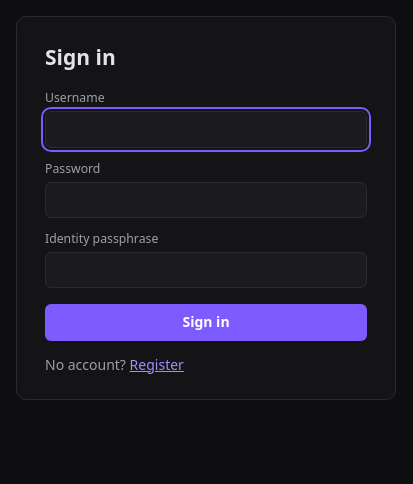
it: test_web_login_form_renders_curated_error_without_leaking_raw_message › shows invalid-credentials copy on 401 without echoing the server detail
Type "alice" into the field labelled "Username".
click(206, 130); type("alice")  # box [45, 111, 367, 148]
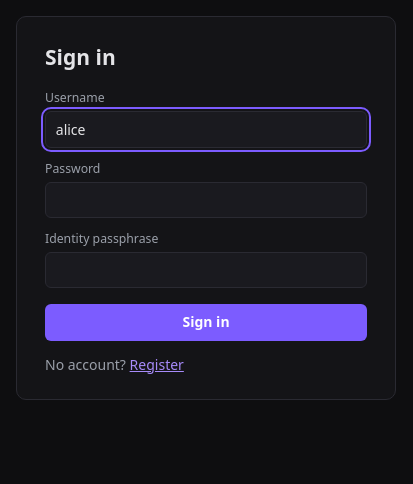
Type "wrong-passw0rd-placeholder" into the password field labelled "Password".
click(206, 200); type("wrong-passw0rd-placeholder")  # box [45, 182, 367, 218]
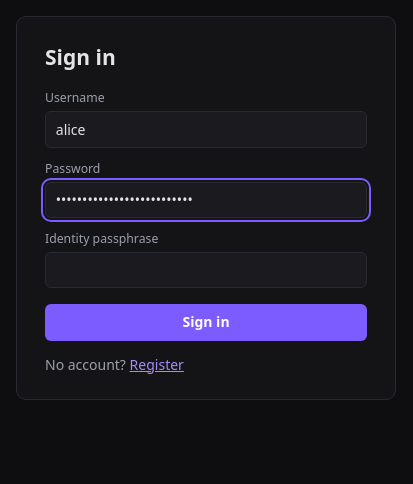
Click the button "Sign in".
click(206, 322)  # box [45, 304, 367, 341]
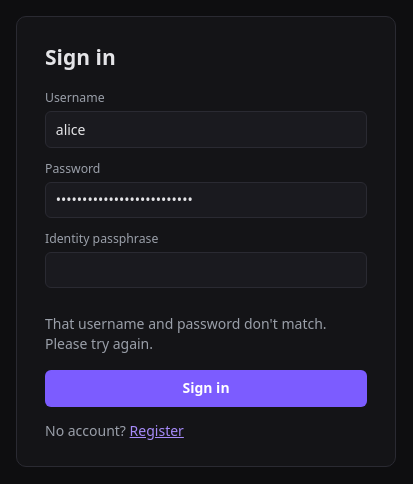
Expected: the message does not show "internal-jwt-detail-leak-99", [45, 314, 367, 355]
Result: the message shows "That username and password don't match" at [45, 314, 327, 353]
